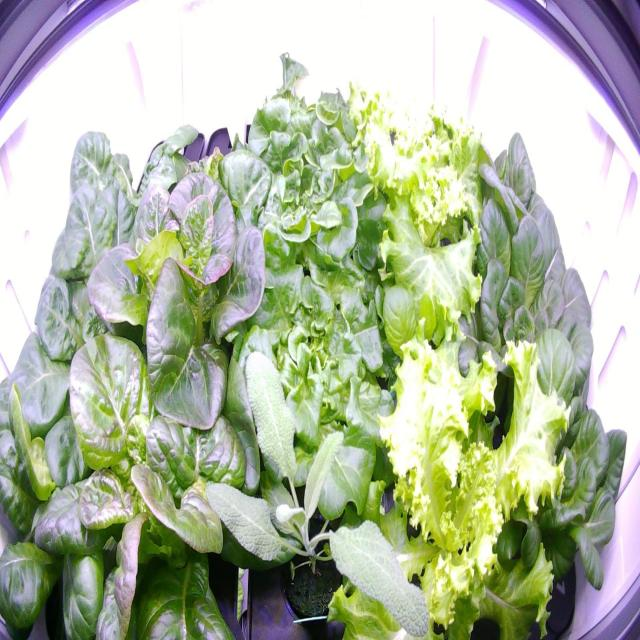Ready: (31, 310, 256, 638), (83, 137, 275, 447), (422, 328, 632, 604), (27, 101, 204, 354), (0, 346, 136, 639), (448, 194, 607, 436), (427, 117, 570, 297)
